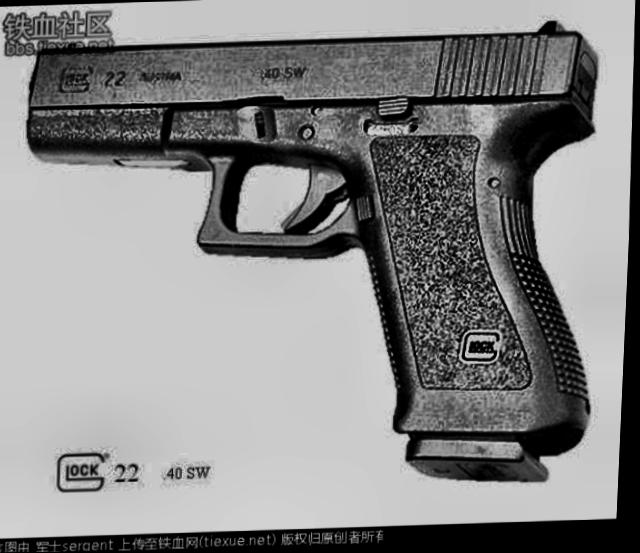pistol: (11, 18, 607, 500)
